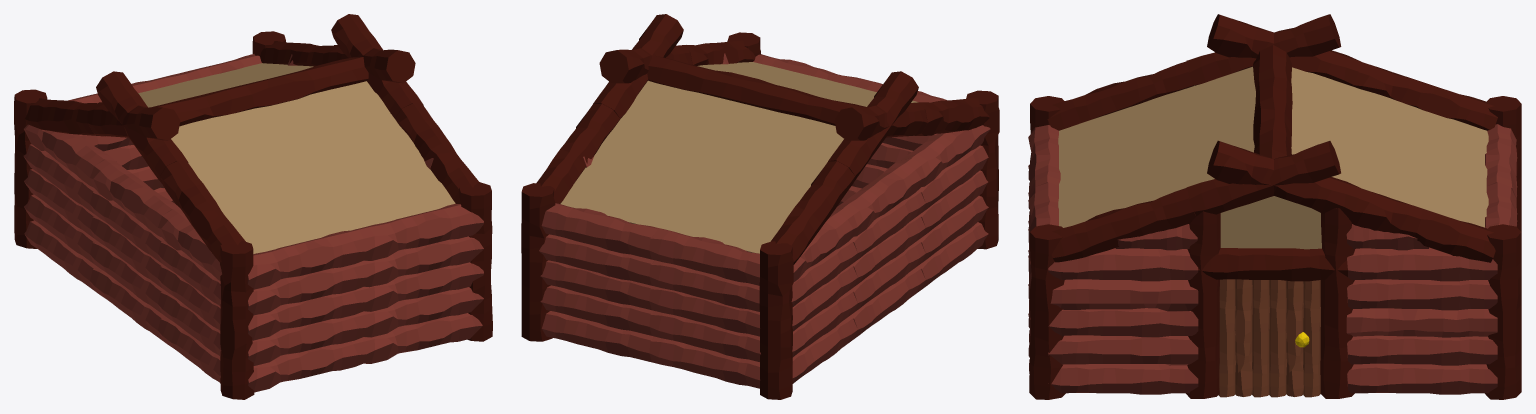
Rendered from LogCabin.fbx.
The picture shows the model from 3 angles, left to right: view 1: azimuth 30°, elevation 25°; view 2: azimuth 150°, elevation 25°; view 3: azimuth 270°, elevation 25°; orthographic projection. The views are drawn at different scales.
Parts seen in each view (by area): view 1: Cube.001, Log.060, Log.039, Log.049, Log.048, Log.053, Log.052, Log.028, Log.031, Log.021, Log.027, Log.029 (+32 smaller); view 2: Cube, Log.060, Log.038, Log.036, Log.051, Log.050, Log.054, Log.055, Log.016, Log.046, Log.019, Log.009 (+33 smaller); view 3: Cube.001, Cube, Log.041, Log.036, Log.055, Log.052, Log.037, Cube.002, Log.040, Log.057, Log, Log.006 (+29 smaller).
Part boxes in pixels (left/top/right/bottom): Cube.001: left=171, top=81, right=455, bottom=253; Log.060: left=152, top=57, right=368, bottom=126; Log.039: left=220, top=240, right=254, bottom=399; Log.049: left=247, top=229, right=366, bottom=289; Log.048: left=354, top=203, right=483, bottom=260; Log.053: left=160, top=160, right=245, bottom=262; Log.052: left=395, top=103, right=479, bottom=203; Log.028: left=248, top=338, right=366, bottom=392; Log.031: left=248, top=261, right=366, bottom=315; Log.021: left=362, top=313, right=482, bottom=363; Log.027: left=362, top=236, right=483, bottom=287; Log.029: left=248, top=312, right=366, bottom=365; Cube: left=560, top=80, right=843, bottom=253; Log.060: left=647, top=55, right=866, bottom=125; Log.038: left=759, top=241, right=793, bottom=399; Log.036: left=521, top=183, right=555, bottom=341; Log.051: left=649, top=228, right=759, bottom=285; Log.050: left=541, top=203, right=658, bottom=259; Log.054: left=771, top=161, right=855, bottom=264; Log.055: left=536, top=103, right=620, bottom=203; Log.016: left=649, top=336, right=760, bottom=388; Log.046: left=835, top=158, right=925, bottom=236; Log.019: left=649, top=260, right=759, bottom=311; Log.009: left=541, top=311, right=654, bottom=362; Cube.001: left=1058, top=66, right=1255, bottom=227; Cube: left=1291, top=67, right=1488, bottom=227; Log.041: left=1320, top=208, right=1354, bottom=398; Log.036: left=1485, top=224, right=1521, bottom=399; Log.055: left=1349, top=188, right=1495, bottom=262; Log.052: left=1051, top=188, right=1195, bottom=262; Log.037: left=1029, top=224, right=1065, bottom=399; Cube.002: left=1220, top=196, right=1321, bottom=249; Log.040: left=1186, top=211, right=1220, bottom=398; Log.057: left=1207, top=140, right=1361, bottom=217; Log: left=1347, top=363, right=1497, bottom=394; Log.006: left=1347, top=279, right=1497, bottom=310.
Bounding box in the file's own units: 460 × 372 × 659.
